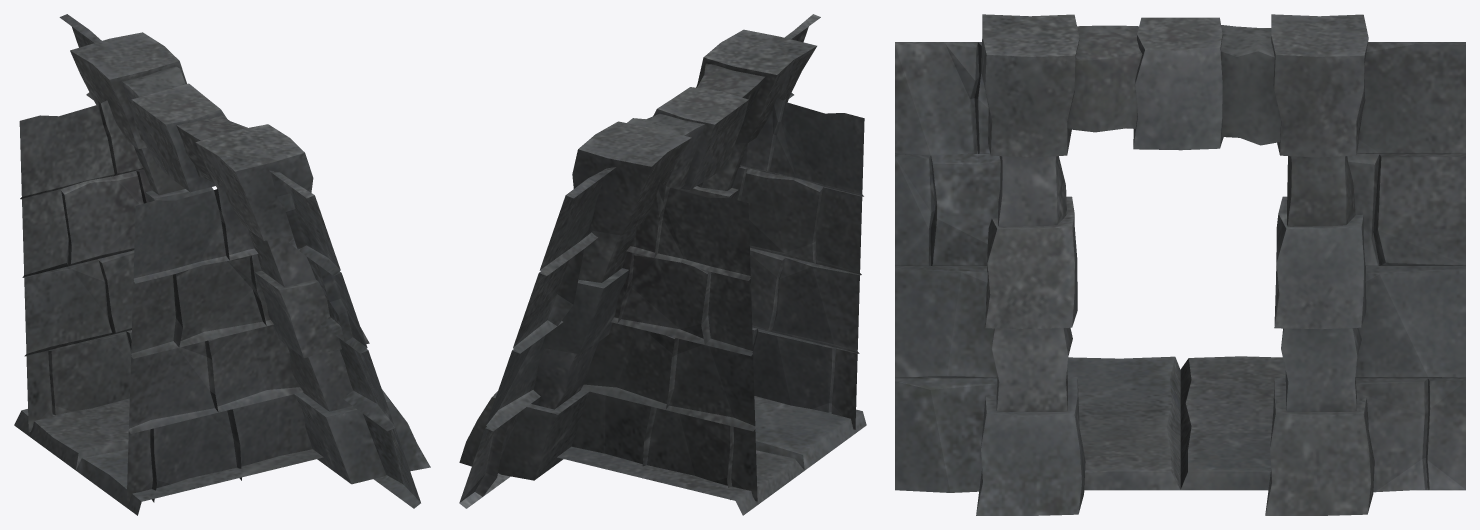
File: WallDoor.fbx
3 renders of one model, left to right at view 1: azimuth 30°, elevation 25°; view 2: azimuth 150°, elevation 25°; view 3: azimuth 270°, elevation 25°, orthographic. The views are drawn at different scales.
Visible parts, largest first — view 1: WALL_Door; view 2: WALL_Door; view 3: WALL_Door.
Part boxes in pixels (x1,y1,x2,y2): WALL_Door: (14,14,430,515); WALL_Door: (459,14,866,515); WALL_Door: (895,14,1465,515).
Bounding box in the file's own units: 9.94 × 12.27 × 16.
Materials: 1 (1 with a texture image).
